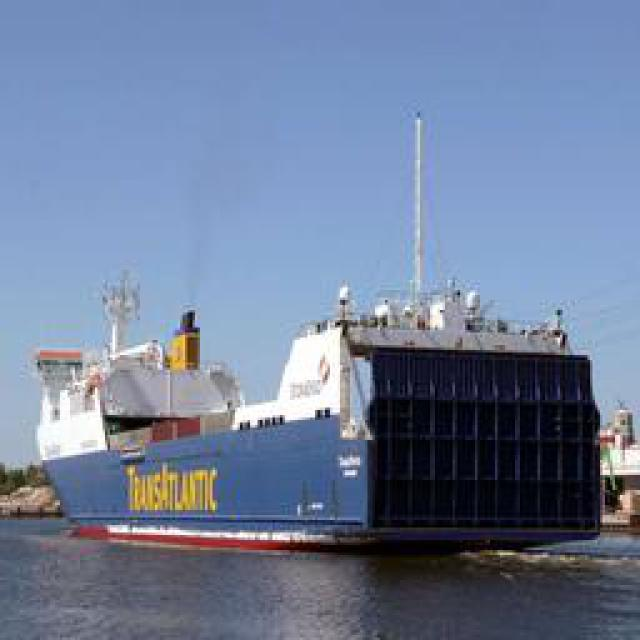Ship: (47, 91, 615, 546)
